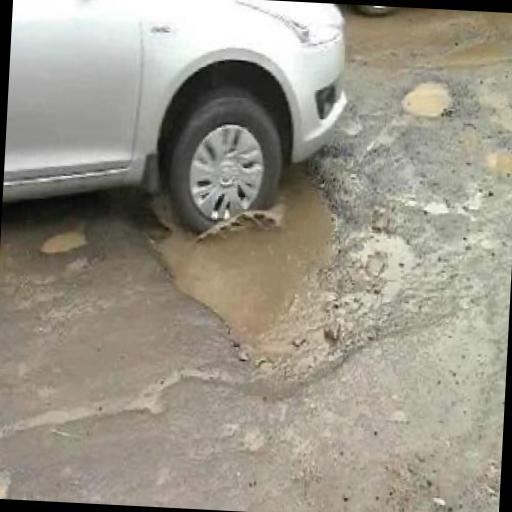pothole: (135, 126, 400, 402), (399, 74, 459, 118), (37, 222, 91, 260), (479, 136, 512, 184)
